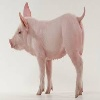heo: (7, 2, 39, 56)
